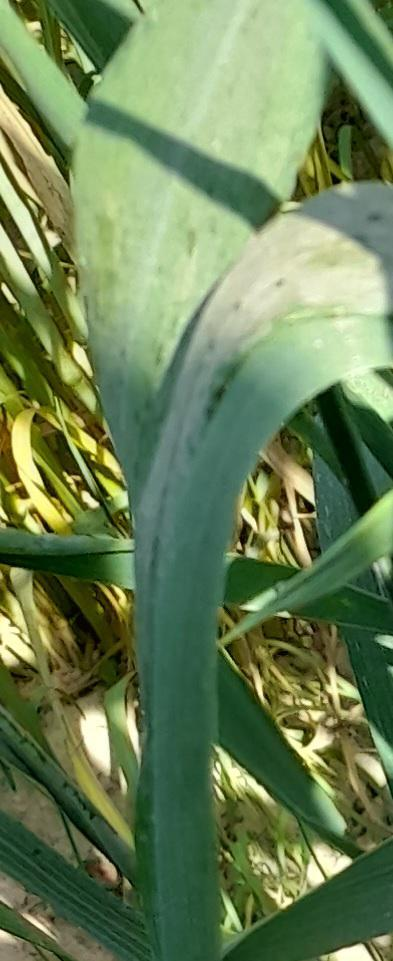Wheat: (142, 400, 206, 953), (122, 30, 303, 159), (80, 176, 276, 284), (94, 300, 276, 392)
